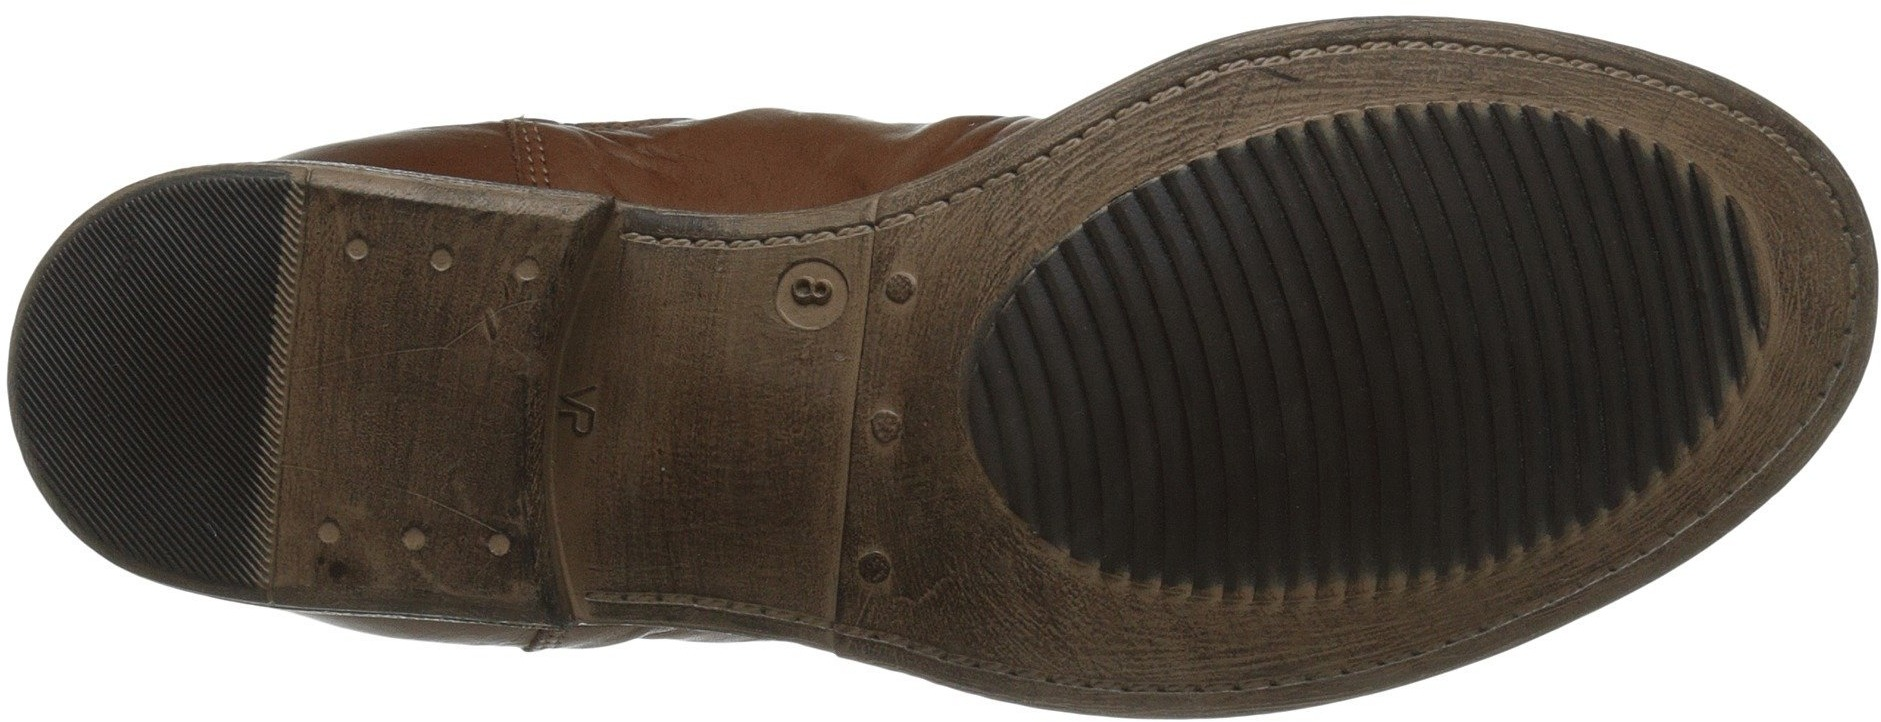circle: (763, 251, 861, 335), (859, 251, 940, 327), (286, 497, 367, 571), (381, 509, 449, 574), (842, 535, 909, 598), (855, 392, 918, 458), (409, 224, 467, 291), (470, 513, 527, 574)
exclude: (256, 24, 1052, 211), (524, 199, 665, 621)
line: (1035, 193, 1401, 564), (38, 252, 292, 498)
text: (763, 251, 861, 335), (786, 270, 842, 317)
